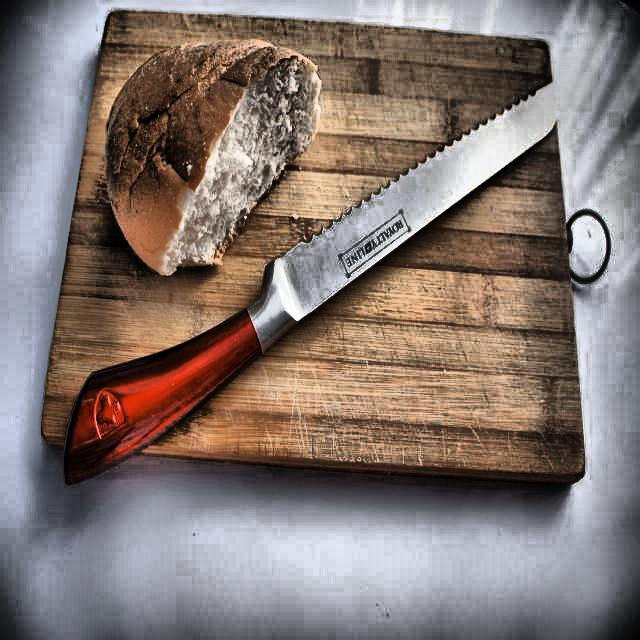knife: (58, 75, 562, 495)
